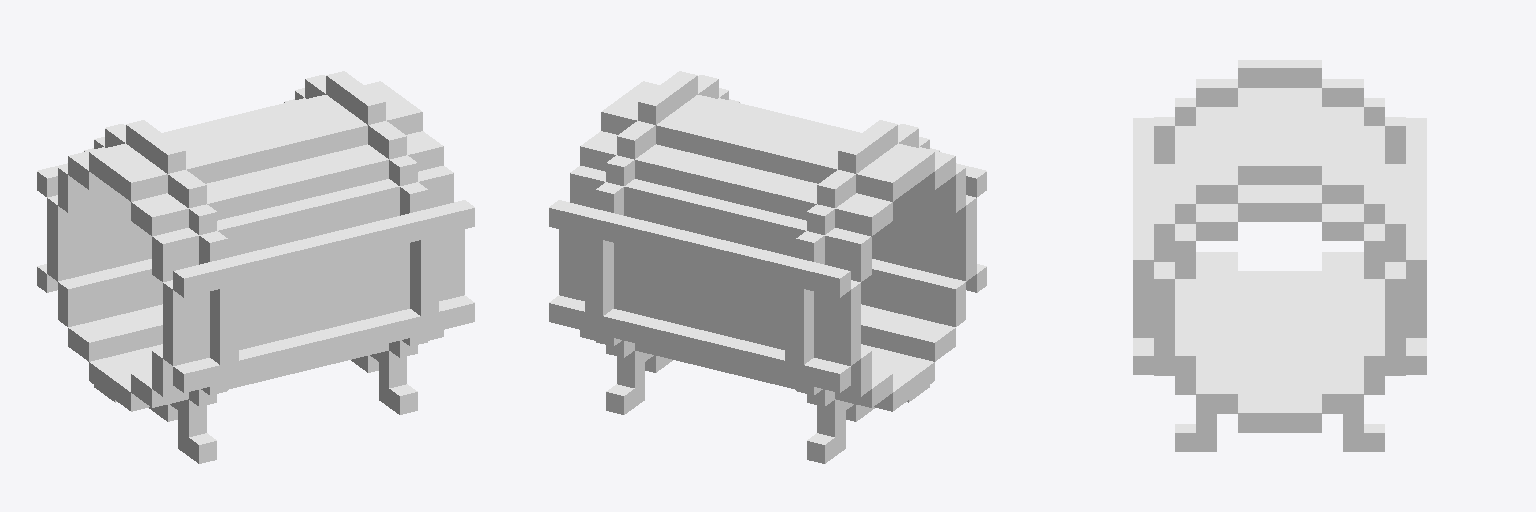
File: tunnelKit_center_01_v1.obj
3 renders of one model, left to right at view 1: azimuth 30°, elevation 25°; view 2: azimuth 150°, elevation 25°; view 3: azimuth 270°, elevation 25°, orthographic.
Visible parts, largest first — view 1: object 1; view 2: object 1; view 3: object 1.
Boxes of the visible parts, <box> form: object 1: <box>37,71,474,463</box>; object 1: <box>549,71,986,463</box>; object 1: <box>1133,60,1426,451</box>.
Bounding box in the file's own units: 1.6 × 1.5 × 1.4.